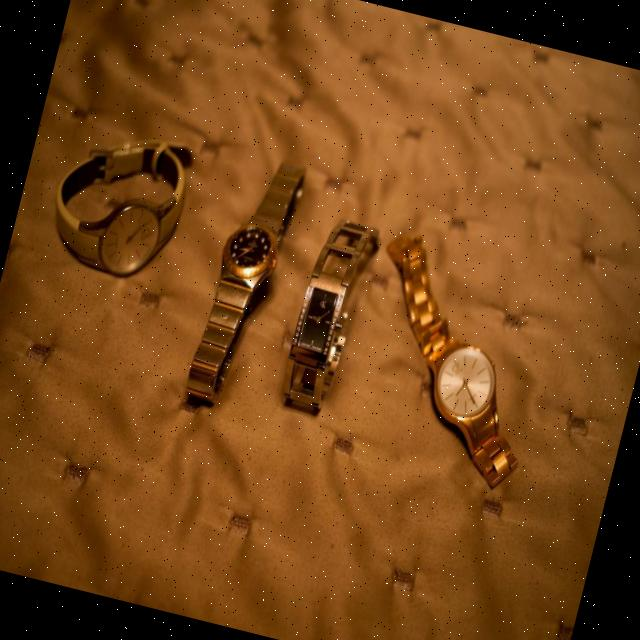Wrist watch: (338, 224, 568, 492), (33, 87, 208, 305), (180, 148, 312, 416), (276, 210, 384, 418)
